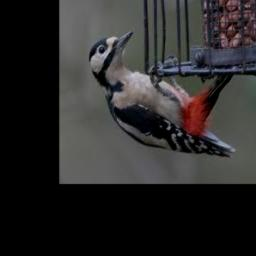Woodpecker: (88, 31, 235, 158)
